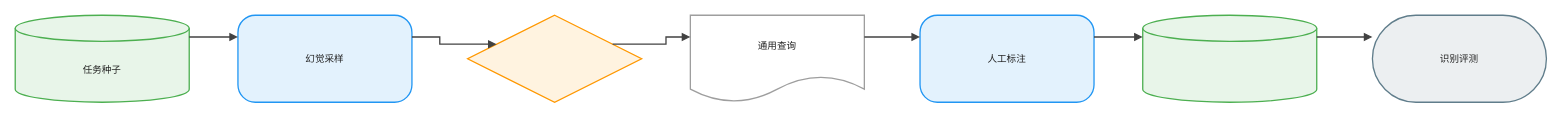
Image size: 1563x118. Some labels were removed from this diagram. Each missing label, with the centre of its shape:
"35K样本" belongs at [1229,58].
"难例过滤" belongs at [554,58].
